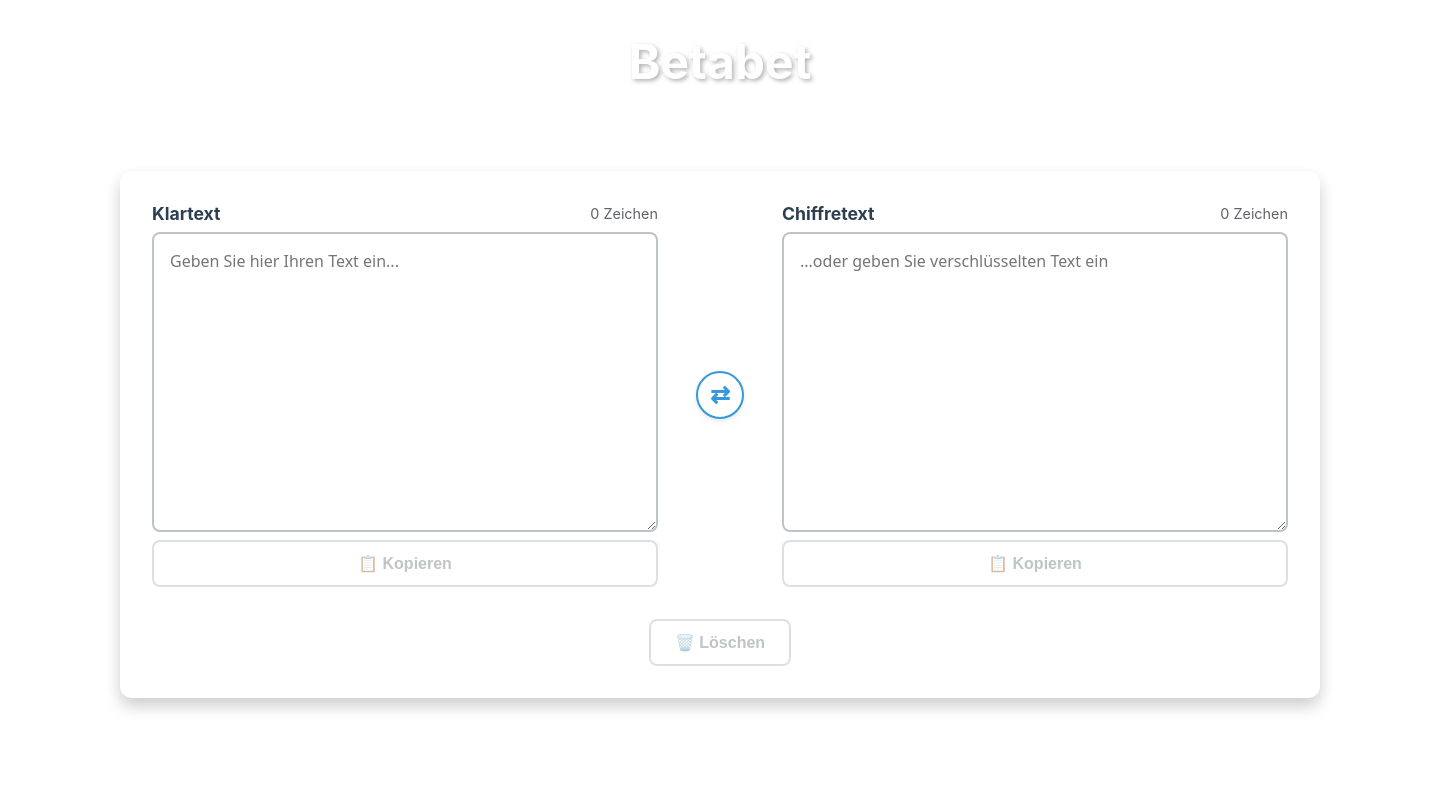
it: CipherTranslator › Clear Functionality › should clear both fields when clear button is clicked
In the text box with test id "plaintext-input": [405, 382] box left=152, top=232, right=658, bottom=532, type "TEST"
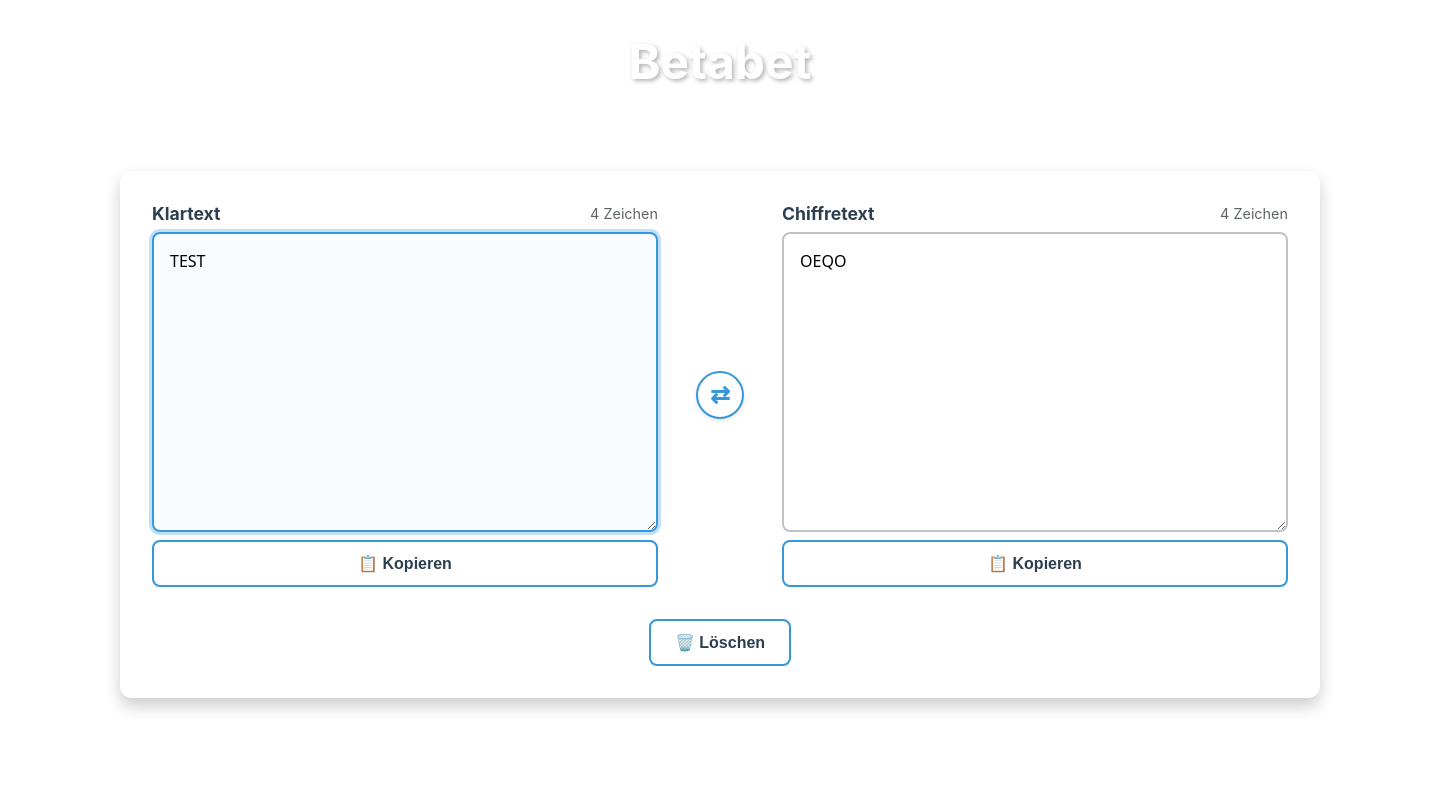
Check: the text box with test id "ciphertext-input" holds "OEQO", box left=782, top=232, right=1288, bottom=532
Click the button with test id "clear-button": [720, 642] box left=649, top=619, right=791, bottom=666
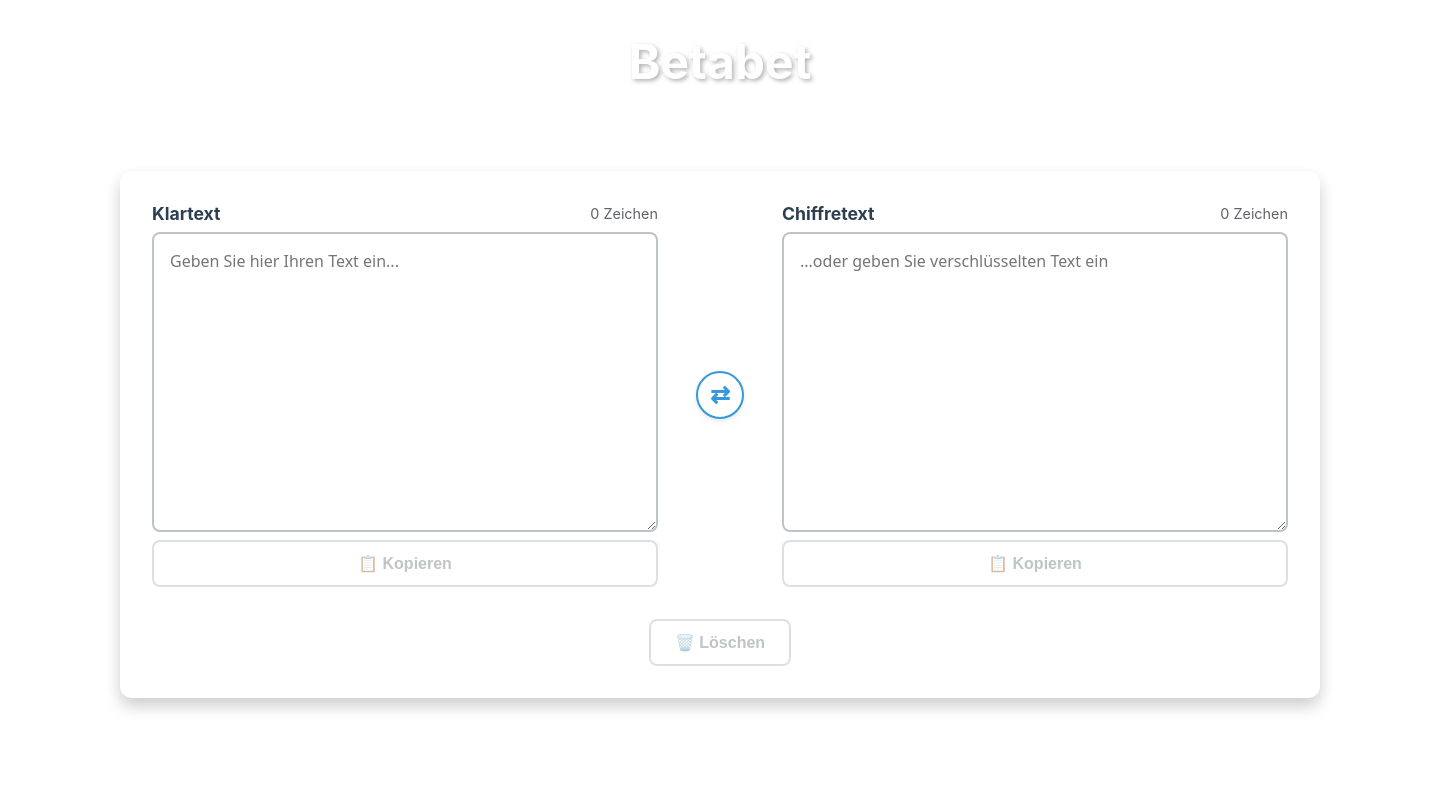
Check: the text box with test id "plaintext-input" is empty, box left=152, top=232, right=658, bottom=532
Check: the text box with test id "ciphertext-input" is empty, box left=782, top=232, right=1288, bottom=532
